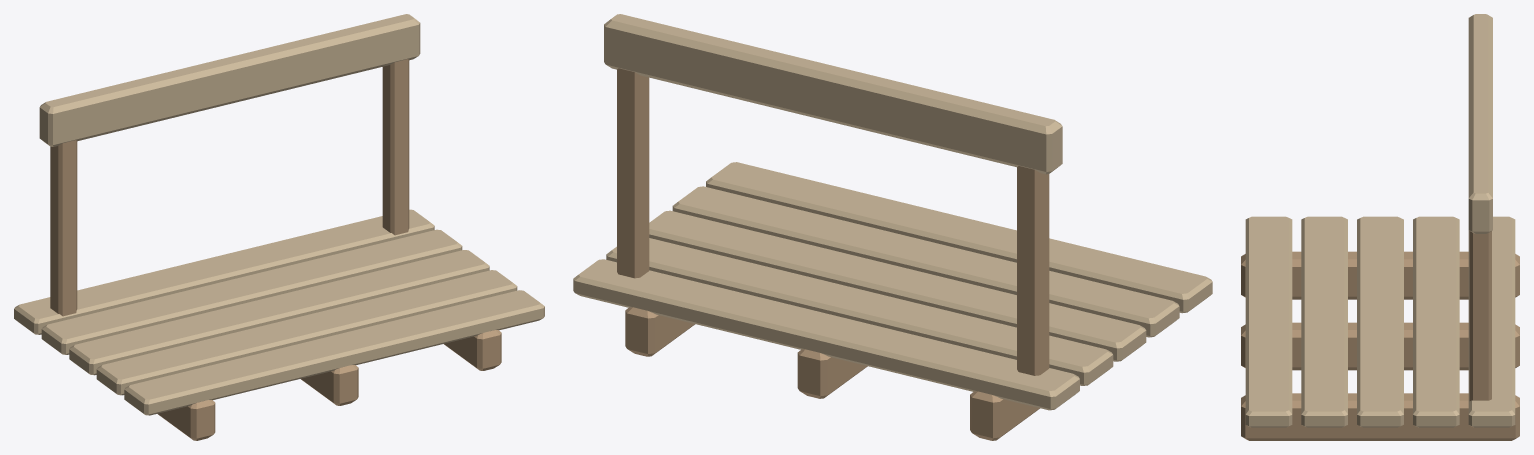
The model's file is coffee_delivery.glb.
3 renders of one model, left to right at view 1: azimuth 30°, elevation 25°; view 2: azimuth 150°, elevation 25°; view 3: azimuth 270°, elevation 25°, orthographic. The views are drawn at different scales.
Visible parts, largest first — view 1: coffee_delivery; view 2: coffee_delivery; view 3: coffee_delivery.
Boxes of the visible parts, bbox=[...] form: coffee_delivery: bbox=[14, 14, 544, 440]; coffee_delivery: bbox=[573, 14, 1212, 440]; coffee_delivery: bbox=[1241, 14, 1519, 440].
Size of the model in its own units: 2.1 by 1.3 by 1.25.
